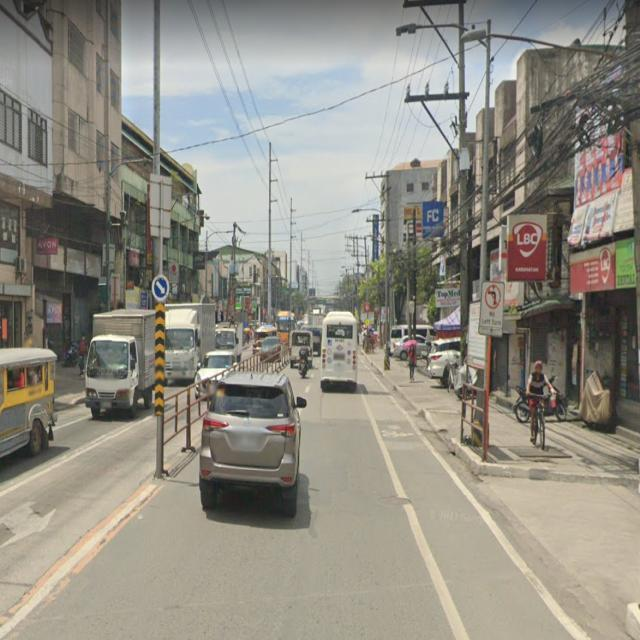keep right: (151, 270, 173, 307)
